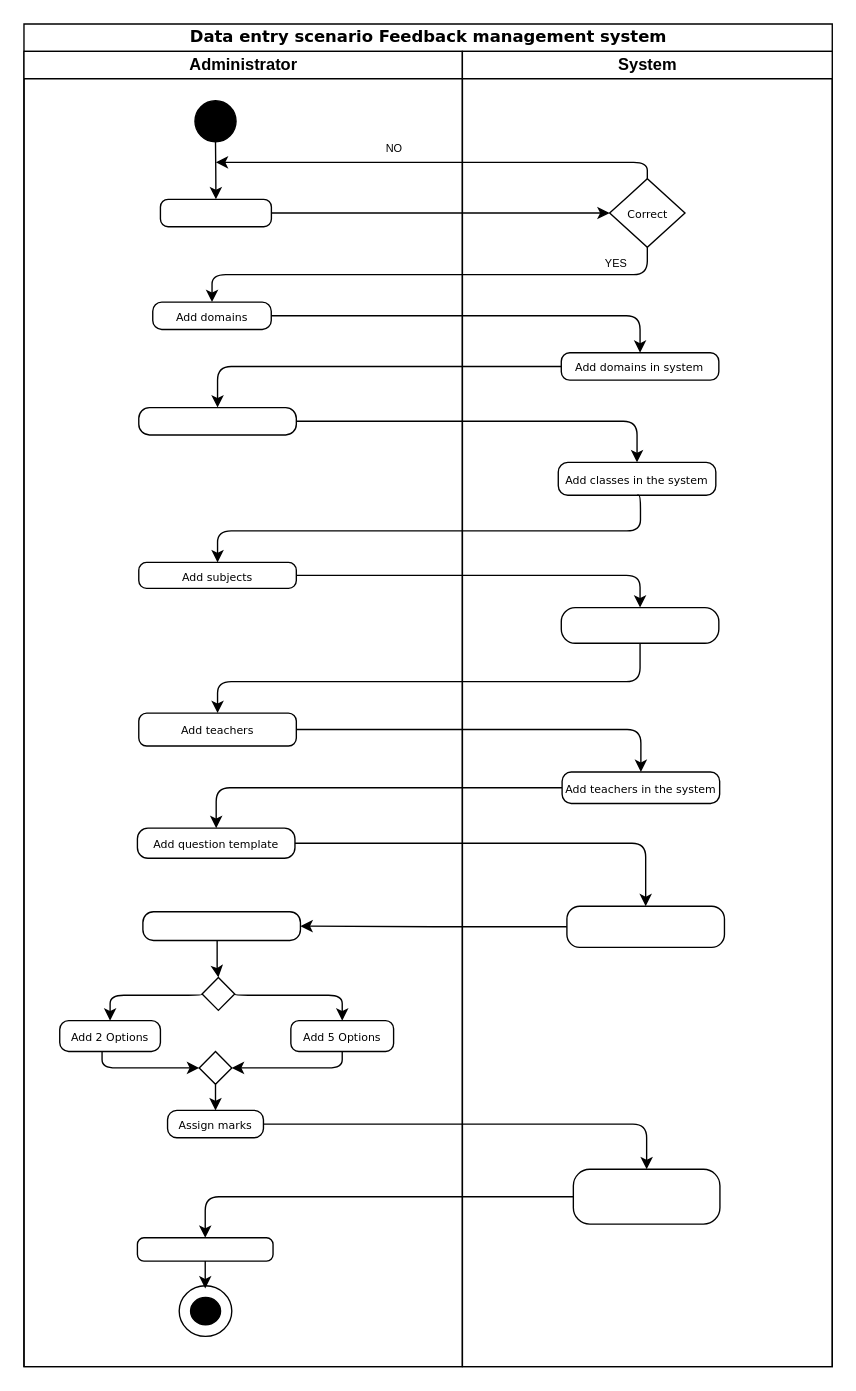
Some shapes in this 856 by 1391 pixel diagram are drawn without their labels. Each missing label, with the box of its shape:
Add Classes: (137, 406, 296, 435)
Add question: (142, 910, 300, 941)
Add question template in the system: (566, 905, 724, 947)
Add Questions and options to the template: (572, 1168, 720, 1224)
Add subjects in the system: (560, 606, 719, 643)
Login: (159, 198, 271, 227)
Logout: (136, 1236, 273, 1261)
